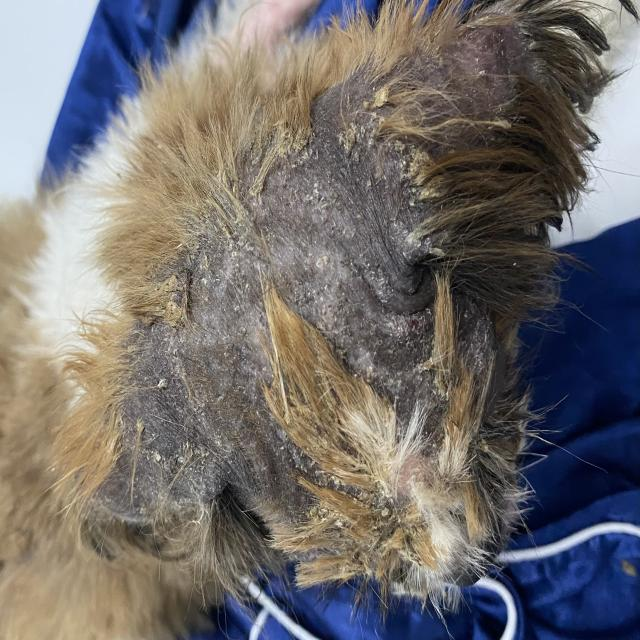demodicosis: (100, 271, 489, 552), (202, 29, 541, 263)
